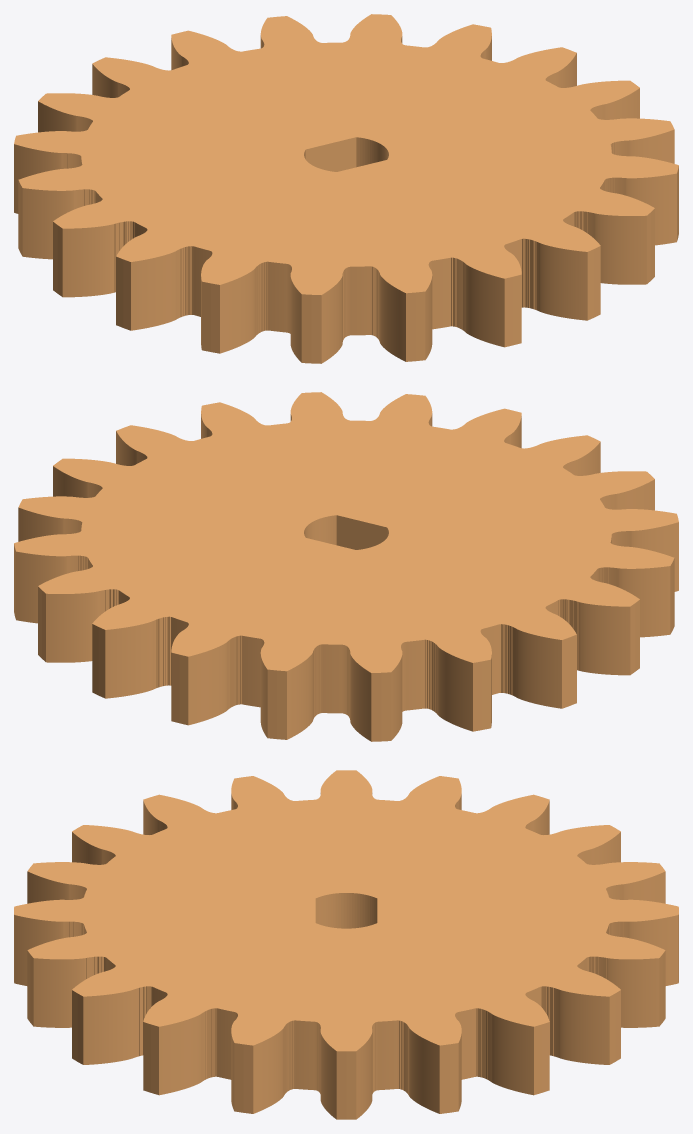
The model's file is gear-spur-z20.glb.
The picture shows the model from 3 angles, top to bottom: view 1: azimuth 30°, elevation 25°; view 2: azimuth 150°, elevation 25°; view 3: azimuth 270°, elevation 25°; orthographic projection.
Visible parts, largest first — view 1: gear-spur-z20; view 2: gear-spur-z20; view 3: gear-spur-z20.
Boxes of the visible parts, bbox=[...] form: gear-spur-z20: bbox=[14, 14, 678, 363]; gear-spur-z20: bbox=[14, 392, 678, 741]; gear-spur-z20: bbox=[14, 770, 678, 1119].
Bounding box in the file's own units: 0.055 × 0.00625 × 0.055.
